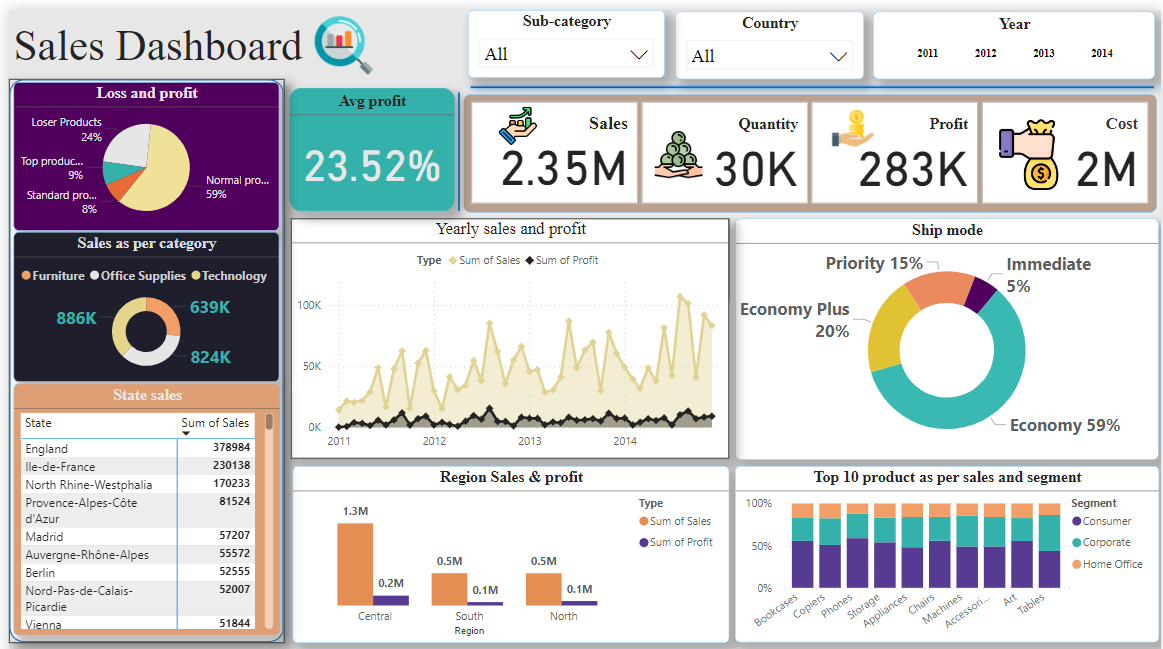

This screenshot's page, from the dashboard's own definition file:
{"tool":"powerbi","page":{"name":"Page 1","canvas":[1280,720],"ordinal":0},"visuals":[{"type":"slicer","title":"Country","fields":{"Values":["ListOfOrders.Country"]},"box":[740,1.7,210,75],"z":0},{"type":"slicer","title":"Year","fields":{"Values":["ListOfOrders.Order Date.Variation.Date Hierarchy.Year"]},"box":[960,1.7,313.3,75],"z":1000},{"type":"textbox","box":[0,6.1,428,69],"z":2000},{"type":"image","box":[257.6,2,227.2,75.1],"z":3000},{"type":"shape","box":[0,77.1,306.3,626.8],"z":4000},{"type":"cardVisual","fields":{"Data":["Sum(OrderBreakdown.Sales)","Sum(OrderBreakdown.Quantity)","Sum(OrderBreakdown.Profit)","Sum(OrderBreakdown.Total cost)"]},"box":[505.1,93.3,770.8,131.9],"z":5000},{"type":"shape","box":[505.1,77.1,774.9,18.3],"z":6000},{"type":"image","box":[497,99.4,137.9,56.8],"z":7000},{"type":"image","box":[872.3,99.4,131.9,60.9],"z":8000},{"type":"donutChart","title":"Ship mode","fields":{"Category":["ListOfOrders.Ship Mode"],"Y":["CountNonNull(ListOfOrders.Ship Mode)"]},"box":[807.4,231.3,470.6,267.8],"z":9000},{"type":"areaChart","title":"Yearly sales and profit","fields":{"Category":["ListOfOrders.Order Date.Variation.Date Hierarchy.Year","ListOfOrders.Order Date.Variation.Date Hierarchy.Quarter","ListOfOrders.Order Date.Variation.Date Hierarchy.Month","ListOfOrders.Order Date.Variation.Date Hierarchy.Day"],"Y":["Sum(OrderBreakdown.Sales)","Sum(OrderBreakdown.Profit)"]},"box":[313.3,231.7,486.7,266.7],"z":10000},{"type":"clusteredColumnChart","title":"Region Sales & profit","fields":{"Category":["ListOfOrders.Region"],"Y":["Sum(OrderBreakdown.Sales)","Sum(OrderBreakdown.Profit)"]},"box":[315,506.7,485,196.7],"z":11000},{"type":"hundredPercentStackedColumnChart","title":"Top 10 product as per sales and segment","fields":{"Category":["OrderBreakdown.Sub-Category"],"Y":["Sum(OrderBreakdown.Sales)"],"Series":["ListOfOrders.Segment"]},"box":[807,507,471,196],"z":12000},{"type":"donutChart","title":"Sales as per category","fields":{"Category":["OrderBreakdown.Category"],"Y":["Sum(OrderBreakdown.Sales)"]},"box":[5,246.7,295,166.7],"z":13000},{"type":"card","title":"Avg profit","fields":{"Values":["Avg(OrderBreakdown.Profit percentage)"]},"box":[311.7,86.7,183.3,136.7],"z":14000},{"type":"slicer","title":"Sub-category","fields":{"Values":["OrderBreakdown.Sub-Category"]},"box":[510,0,218.3,75],"z":15000},{"type":"pivotTable","title":"State sales","fields":{"Rows":["ListOfOrders.State"],"Values":["Sum(OrderBreakdown.Sales)"]},"box":[5,415,296.7,280],"z":16000},{"type":"shape","box":[490,91.7,20,131.7],"z":17000},{"type":"pieChart","title":"Loss and profit","fields":{"Category":["OrderBreakdown.Criteria"],"Y":["CountNonNull(OrderBreakdown.Criteria)"]},"box":[5,80,295,165],"z":18000}]}

Visuals, with their boxes in screenshot pixels (x1, y1, x2, y2), scaled from the page's 1280x720 canvas onto the 1163x649 screenshot:
"Country" slicer: {"left": 672, "top": 2, "right": 863, "bottom": 69}
"Year" slicer: {"left": 872, "top": 2, "right": 1157, "bottom": 69}
textbox: {"left": 0, "top": 5, "right": 389, "bottom": 68}
image: {"left": 234, "top": 2, "right": 440, "bottom": 69}
shape: {"left": 0, "top": 69, "right": 278, "bottom": 634}
cardVisual - Sum(OrderBreakdown.Sales) x Sum(OrderBreakdown.Quantity): {"left": 459, "top": 84, "right": 1159, "bottom": 203}
shape: {"left": 459, "top": 69, "right": 1162, "bottom": 86}
image: {"left": 452, "top": 90, "right": 577, "bottom": 141}
image: {"left": 793, "top": 90, "right": 912, "bottom": 144}
"Ship mode" donutChart: {"left": 734, "top": 208, "right": 1161, "bottom": 450}
"Yearly sales and profit" areaChart: {"left": 285, "top": 209, "right": 727, "bottom": 449}
"Region Sales & profit" clusteredColumnChart: {"left": 286, "top": 457, "right": 727, "bottom": 634}
"Top 10 product as per sales and segment" hundredPercentStackedColumnChart: {"left": 733, "top": 457, "right": 1161, "bottom": 634}
"Sales as per category" donutChart: {"left": 5, "top": 222, "right": 273, "bottom": 373}
"Avg profit" card: {"left": 283, "top": 78, "right": 450, "bottom": 201}
"Sub-category" slicer: {"left": 463, "top": 0, "right": 662, "bottom": 68}
"State sales" pivotTable: {"left": 5, "top": 374, "right": 274, "bottom": 626}
shape: {"left": 445, "top": 83, "right": 463, "bottom": 201}
"Loss and profit" pieChart: {"left": 5, "top": 72, "right": 273, "bottom": 221}
